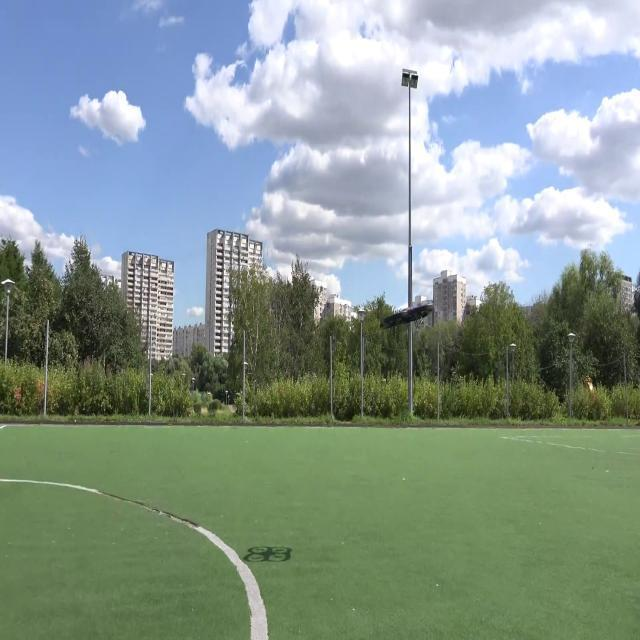Drons: (378, 303, 438, 332)
